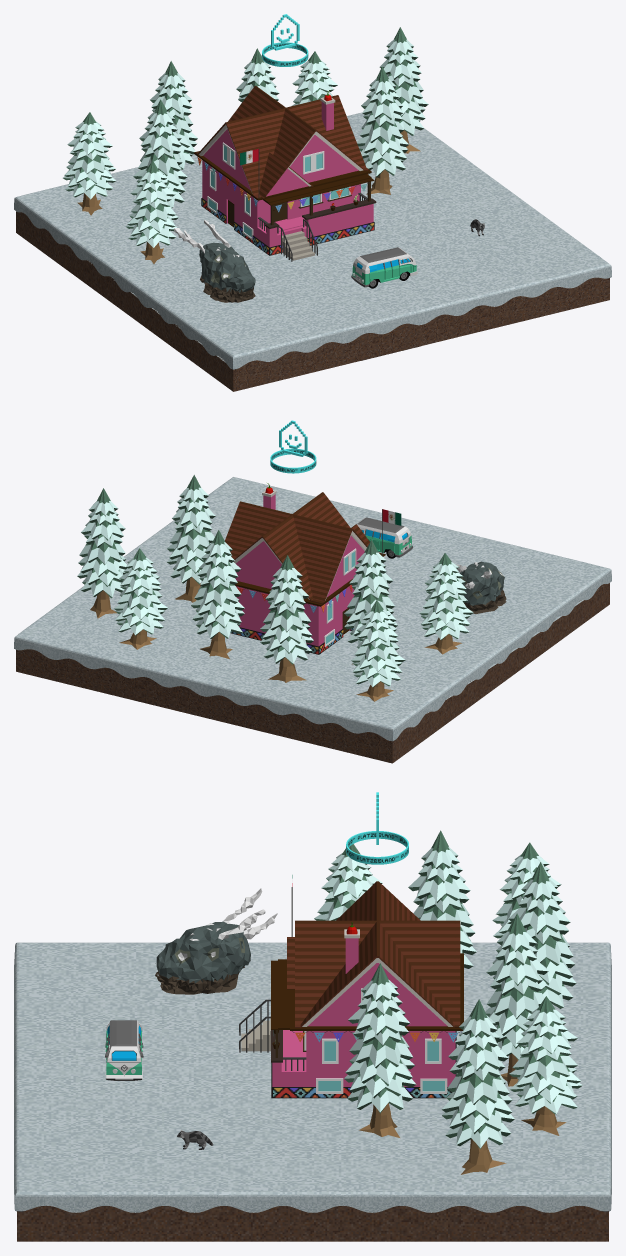
The picture shows the model from 3 angles, top to bottom: view 1: azimuth 30°, elevation 25°; view 2: azimuth 150°, elevation 25°; view 3: azimuth 270°, elevation 25°; orthographic projection. The views are drawn at different scales.
Parts seen in each view (by area): view 1: Cube.003, Cube.1005, OBJRANDOM_METEORITE, VEHICLES_VAN, TYPE_PREMIUM; view 2: Cube.003, Cube.1005, OBJRANDOM_METEORITE, VEHICLES_VAN, TYPE_PREMIUM; view 3: Cube.003, Cube.1005, OBJRANDOM_METEORITE, VEHICLES_VAN, TYPE_PREMIUM.
Part boxes in pixels (left/top/right/bottom): Cube.003: left=14, top=27, right=611, bottom=391; Cube.1005: left=194, top=85, right=376, bottom=261; OBJRANDOM_METEORITE: left=174, top=220, right=255, bottom=302; VEHICLES_VAN: left=351, top=247, right=417, bottom=288; TYPE_PREMIUM: left=262, top=14, right=308, bottom=66; Cube.003: left=14, top=475, right=611, bottom=763; Cube.1005: left=225, top=483, right=401, bottom=654; OBJRANDOM_METEORITE: left=456, top=561, right=506, bottom=613; VEHICLES_VAN: left=356, top=517, right=412, bottom=558; TYPE_PREMIUM: left=270, top=420, right=316, bottom=473; Cube.003: left=14, top=830, right=611, bottom=1241; Cube.1005: left=239, top=875, right=463, bottom=1098; OBJRANDOM_METEORITE: left=155, top=888, right=277, bottom=994; VEHICLES_VAN: left=105, top=1020, right=143, bottom=1080; TYPE_PREMIUM: left=346, top=792, right=408, bottom=864.
Bounding box in the file's own units: 4040 × 2467 × 4040.
Materials: 74 (6 with a texture image).
